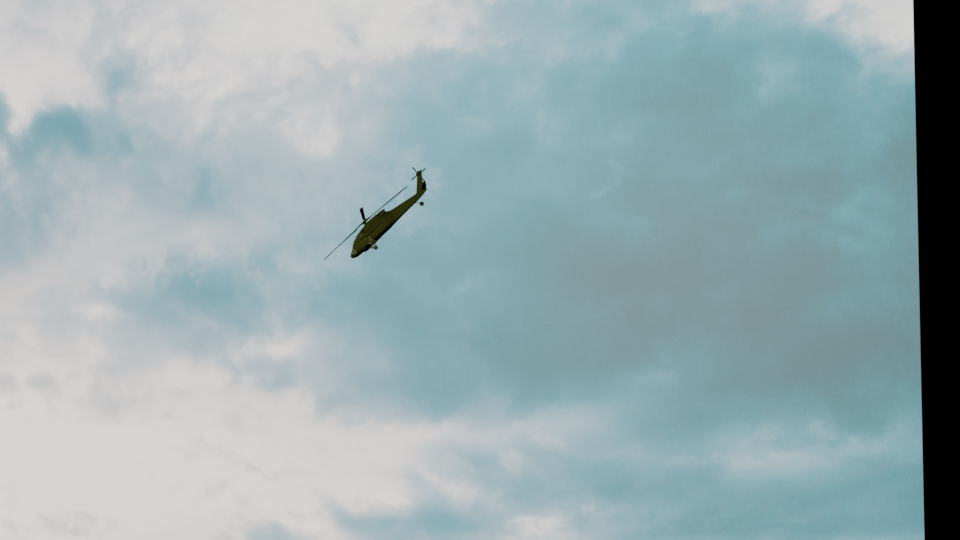heli: (348, 165, 428, 260)
